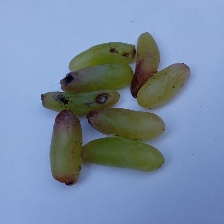grapes: (24, 8, 224, 185)
